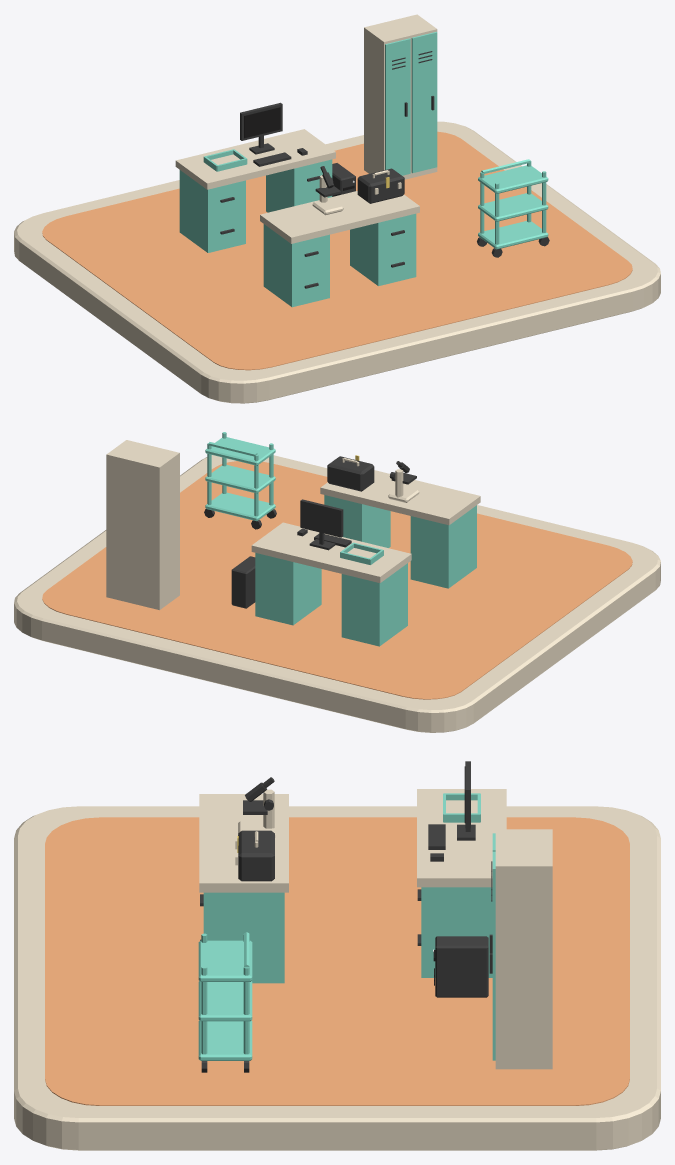
The picture shows the model from 3 angles, top to bottom: view 1: azimuth 30°, elevation 25°; view 2: azimuth 150°, elevation 25°; view 3: azimuth 270°, elevation 25°; orthographic projection. The views are drawn at different scales.
Visible parts, largest first — view 1: COM-02 Floor Surface, COM-01 Rounded Base Direct, Case.001, Storage module, Storage module.002, Worktop, Worktop.001, Storage module.001, Door.001, Door, Storage module.003, Frame (+4 smaller); view 2: COM-02 Floor Surface, COM-01 Rounded Base Direct, Case.001, Storage module.002, Storage module, Worktop.001, Storage module.003, Worktop, Storage module.001, Frame, Case, Tray.001 (+3 smaller); view 3: COM-02 Floor Surface, COM-01 Rounded Base Direct, Case.001, Worktop.001, Worktop, Storage module.001, Storage module.003, Tower, Tray.002, Tray.001, Tray, Case (+2 smaller).
Part boxes in pixels (x1,y1,x2,y2): COM-02 Floor Surface: (42, 131, 632, 370); COM-01 Rounded Base Direct: (14, 121, 660, 403); Case.001: (364, 14, 437, 179); Storage module: (263, 224, 329, 307); Storage module.002: (179, 170, 245, 252); Worktop: (260, 191, 419, 243); Worktop.001: (175, 129, 335, 189); Storage module.001: (350, 213, 416, 286); Door.001: (411, 31, 437, 173); Door: (385, 38, 410, 175); Storage module.003: (266, 159, 332, 212); Frame: (240, 102, 282, 154); COM-02 Floor Surface: (42, 461, 632, 699); COM-01 Rounded Base Direct: (14, 455, 660, 732); Case.001: (106, 440, 179, 610); Storage module.002: (341, 563, 407, 646); Storage module: (410, 505, 476, 588); Worktop.001: (251, 522, 411, 582); Storage module.003: (255, 553, 321, 625); Worktop: (320, 470, 480, 525); Storage module.001: (324, 495, 390, 547); Frame: (300, 499, 343, 550); Case: (327, 456, 374, 491); Tray.001: (205, 465, 275, 493); COM-02 Floor Surface: (45, 817, 629, 1105); COM-01 Rounded Base Direct: (14, 806, 660, 1150); Case.001: (495, 829, 552, 1069); Worktop.001: (417, 789, 506, 887); Worktop: (199, 794, 288, 892); Storage module.001: (203, 892, 284, 983); Storage module.003: (421, 887, 492, 977); Tower: (435, 936, 488, 997); Tray.002: (198, 940, 252, 981); Tray.001: (198, 981, 252, 1021); Tray: (198, 1020, 252, 1060); Case: (238, 830, 274, 881).
Size of the model in its own units: 6 by 2.1 by 5.2.
1 material, 1 textured.
